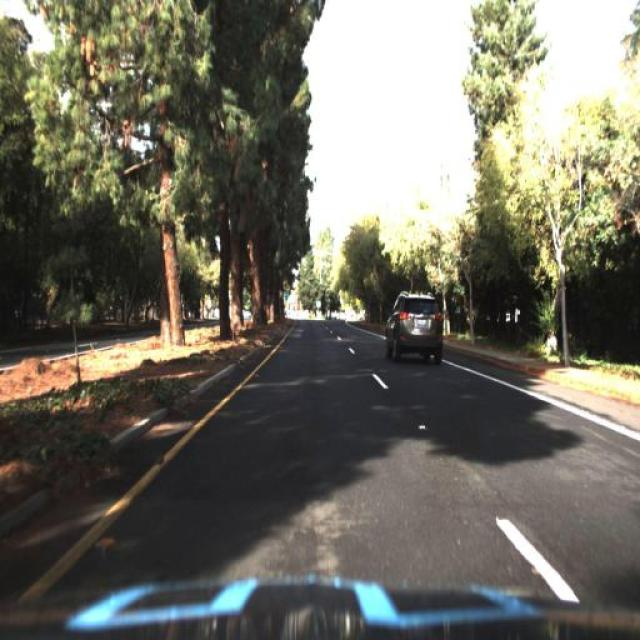car: (381, 292, 445, 368)
